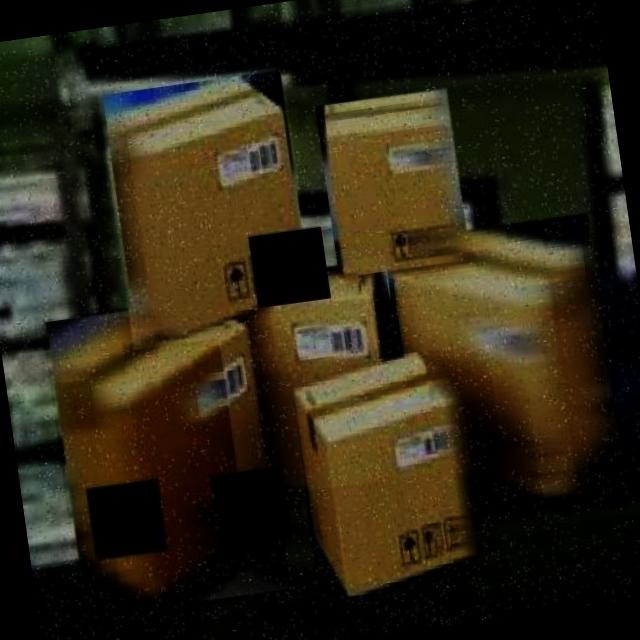box: (41, 290, 292, 622), (378, 207, 629, 523), (99, 66, 318, 350), (284, 340, 482, 606), (210, 256, 416, 500), (312, 85, 472, 279)
